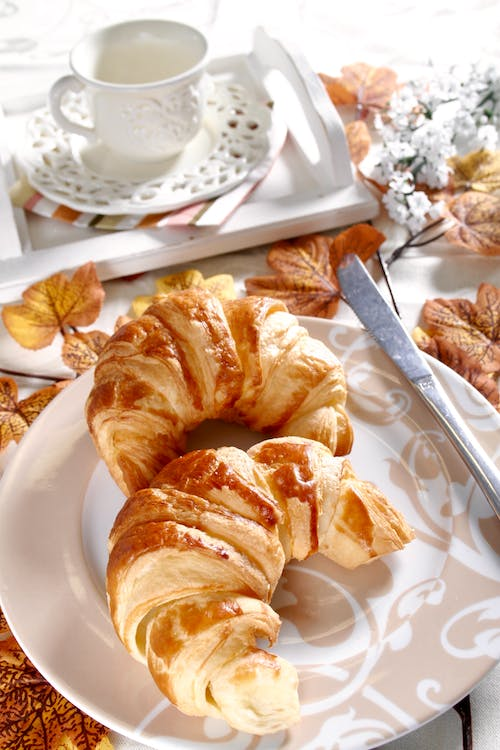knife: (336, 249, 500, 522)
